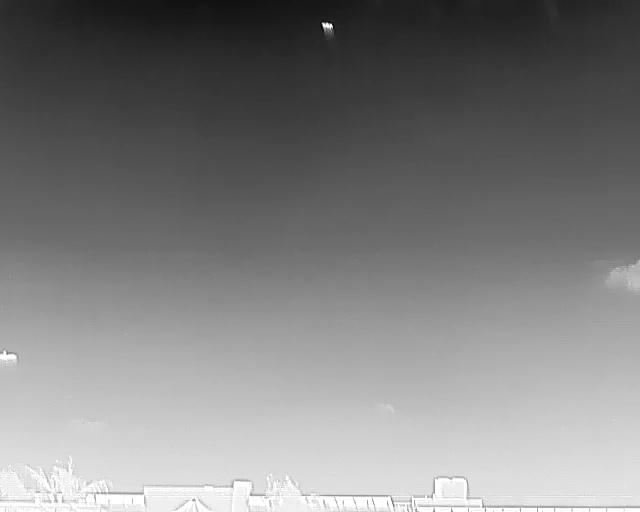fpv-drone: (321, 21, 333, 39)
